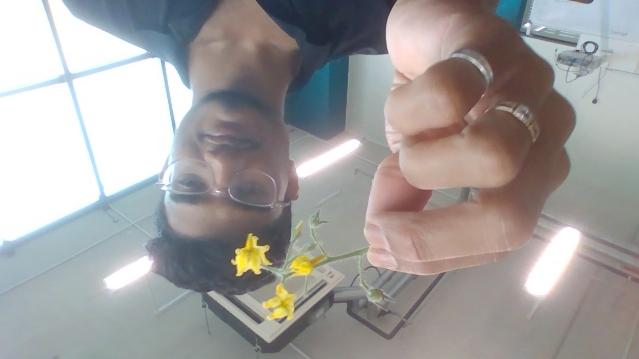Anthesis: (229, 233, 273, 278), (262, 284, 297, 323)
